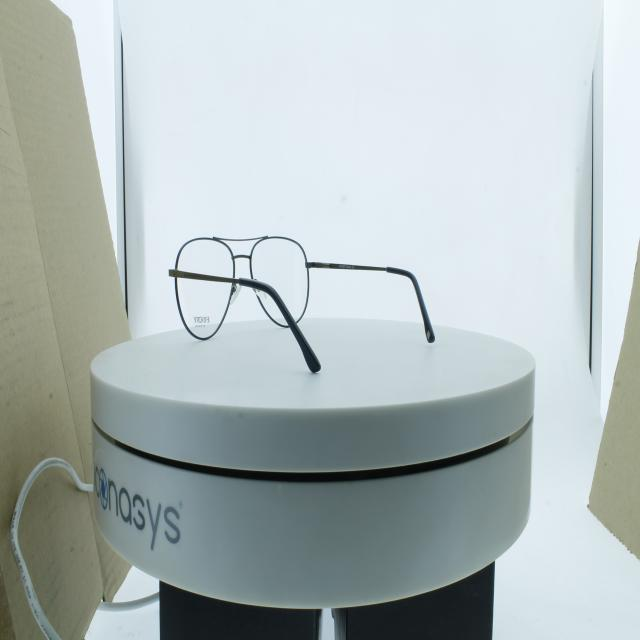Specs: (160, 191, 450, 398)
